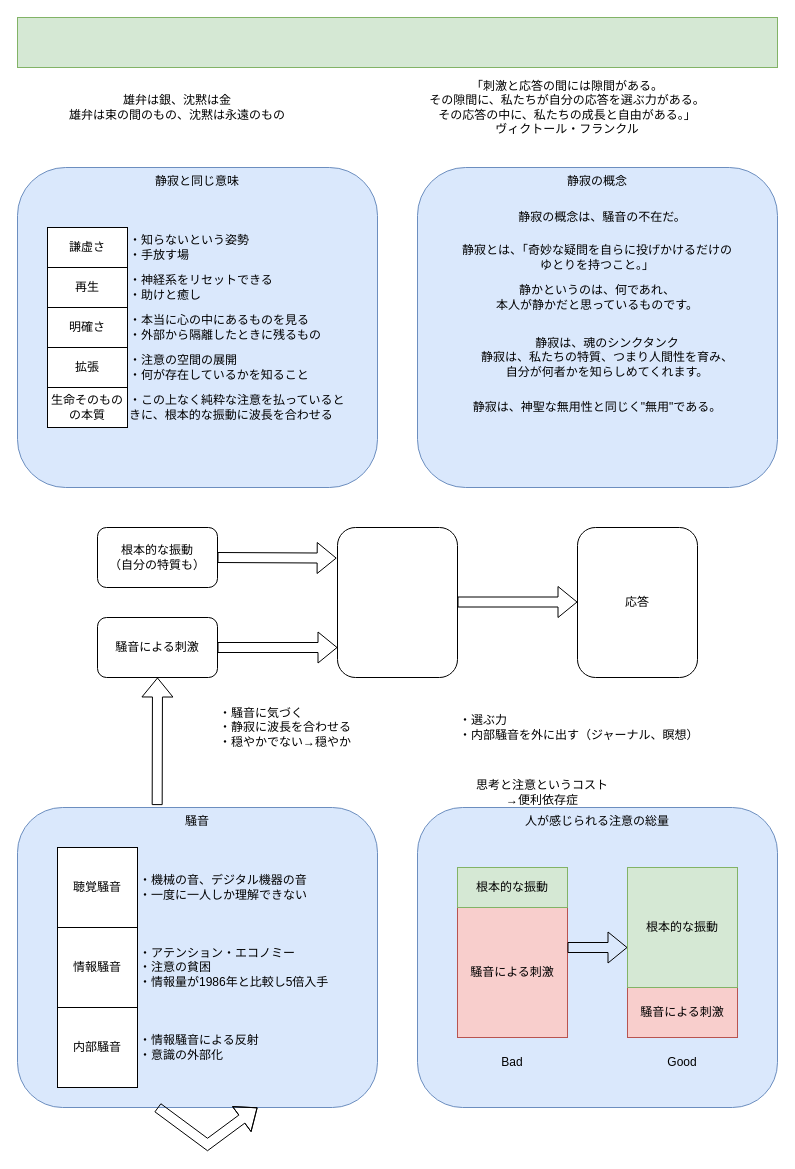
Some shapes in this 795 by 1169 pixel diagram are drawn without their labels. The centre of each missing label's shape, as x and y in pixels:
"隙間 （静寂による空間）" goes at point 397,602.
"静寂の技法 GOLDEN : The power of silent in a world of noise" goes at point 397,42.
